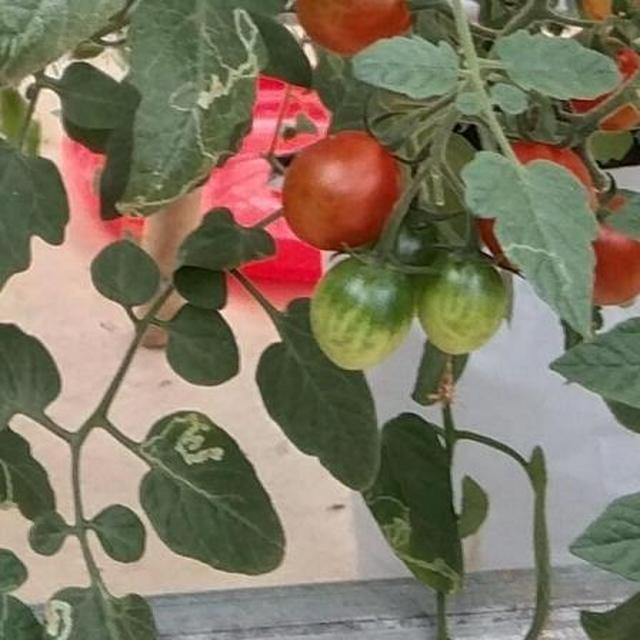Leaf Miner: (104, 94, 640, 640)
